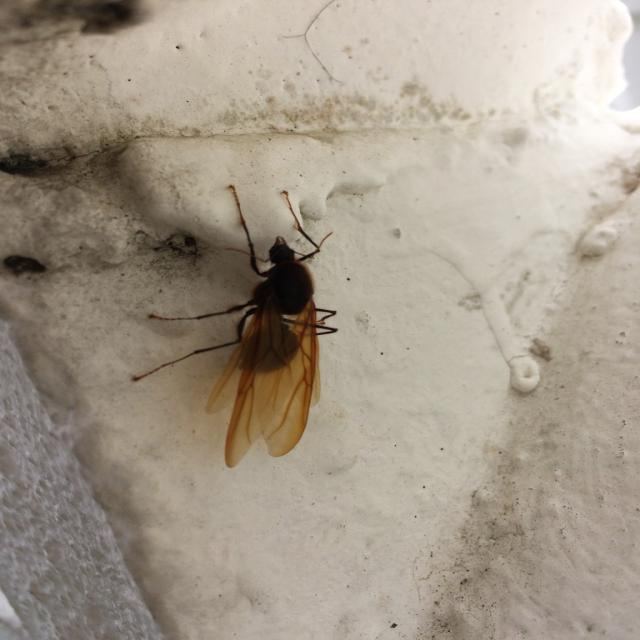Alive-Male-Alate: (130, 184, 340, 469)
